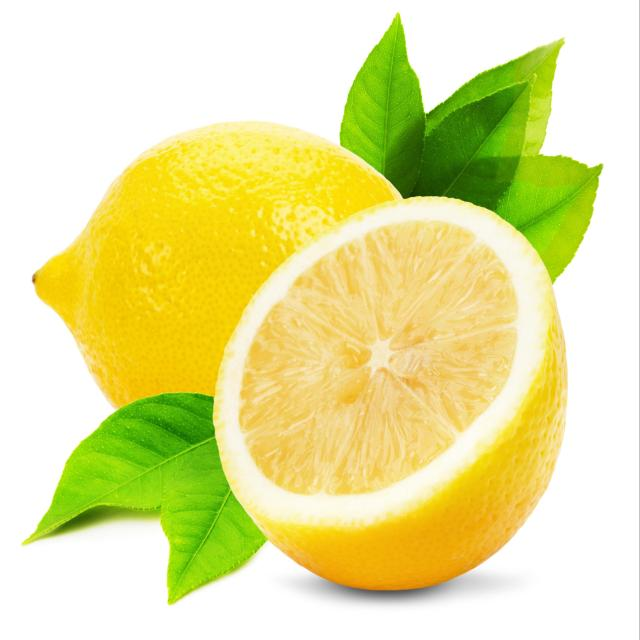lemon: (208, 193, 570, 598)
